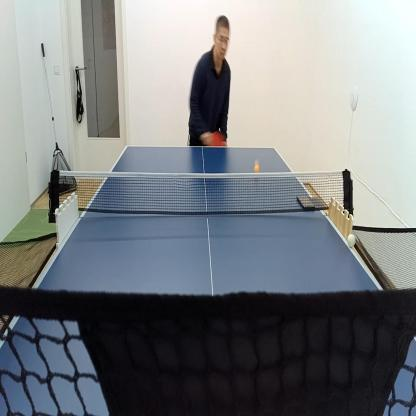Ball: (346, 233, 357, 250), (252, 159, 260, 173)
